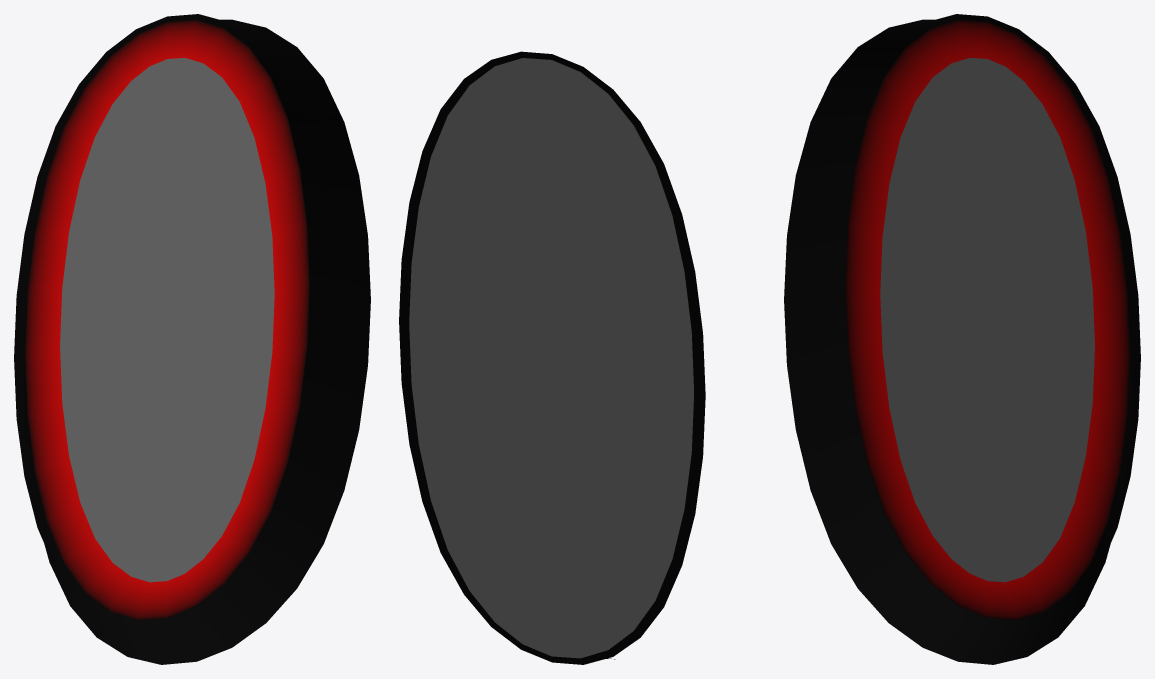
The model's file is Portal.fbx.
The picture shows the model from 3 angles, left to right: view 1: azimuth 30°, elevation 25°; view 2: azimuth 150°, elevation 25°; view 3: azimuth 330°, elevation 25°; orthographic projection.
Parts seen in each view (by area): view 1: Border, Portal; view 2: Portal, Border; view 3: Border, Portal.
Part boxes in pixels (x1,y1,x2,y2): Border: [14, 14, 370, 664]; Portal: [60, 58, 274, 582]; Portal: [409, 58, 693, 658]; Border: [399, 51, 705, 664]; Border: [784, 14, 1140, 664]; Portal: [880, 58, 1094, 582].
Size of the model in its own units: 119 by 210 by 18.
